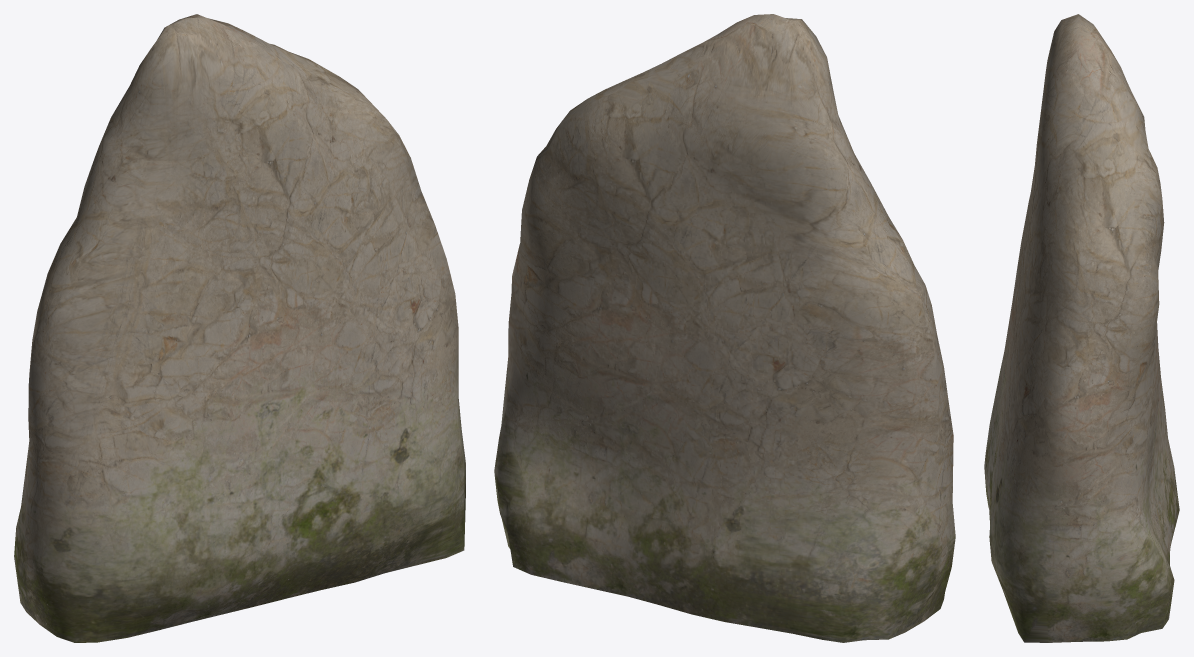
Rendered from rockv2.fbx.
3 renders of one model, left to right at view 1: azimuth 30°, elevation 25°; view 2: azimuth 150°, elevation 25°; view 3: azimuth 270°, elevation 25°, orthographic. The views are drawn at different scales.
Parts seen in each view (by area): view 1: Icosphere; view 2: Icosphere; view 3: Icosphere.
Boxes of the visible parts, left/top/right/bottom form: Icosphere: left=14, top=14, right=465, bottom=642; Icosphere: left=494, top=14, right=955, bottom=642; Icosphere: left=984, top=14, right=1179, bottom=642.
Size of the model in its own units: 264 by 336 by 116.
